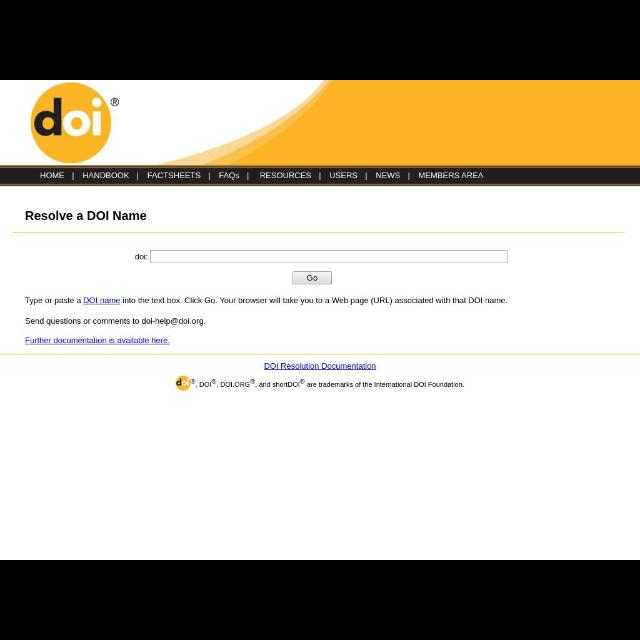image: (28, 82, 120, 164), (173, 374, 195, 392)
input: (150, 250, 510, 262)
link: (24, 336, 172, 346), (264, 362, 378, 371)
text: (24, 296, 510, 308), (198, 378, 466, 392), (24, 315, 208, 329), (23, 210, 146, 223), (418, 170, 484, 180), (82, 170, 130, 180), (146, 171, 202, 179), (258, 172, 312, 180), (328, 170, 359, 182), (38, 170, 66, 182), (217, 171, 243, 181), (376, 171, 402, 181), (134, 252, 148, 260), (307, 274, 319, 282)
textbutton: (292, 270, 332, 284)
toolbar: (1, 166, 639, 186)
